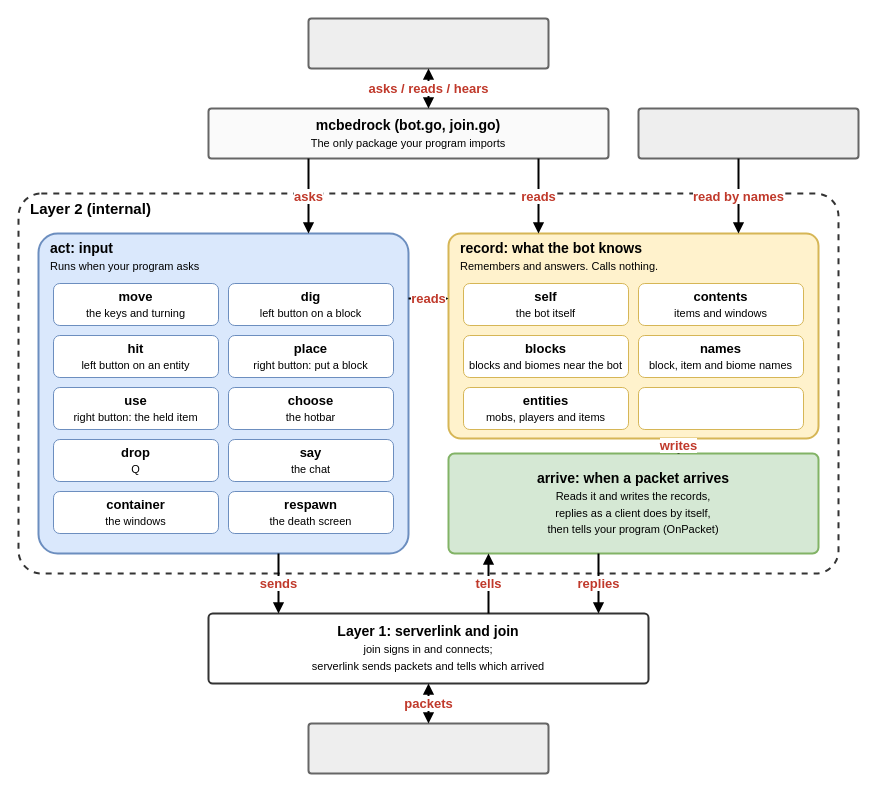
The diagram is 876 pixels wide and 791 high, and some of its shapes have lost their labels. Each missing label, with the centre of its shape:
Minecraft server: pixel 428 748
Mojang's data files taken once by download-mojang-data: pixel 748 133
raw the last packets of each kind: pixel 721 408
Your program: pixel 428 43
